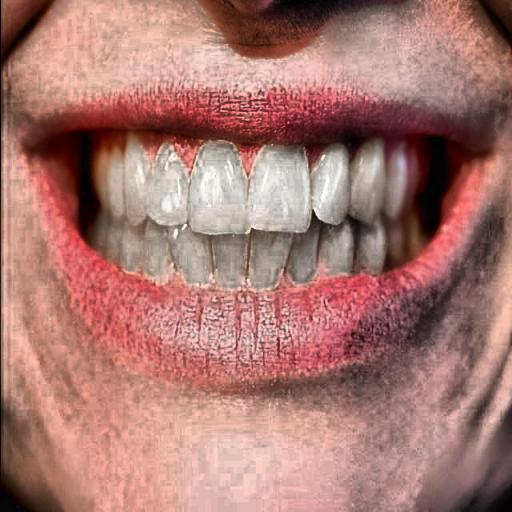Healthy: (60, 82, 444, 311)
